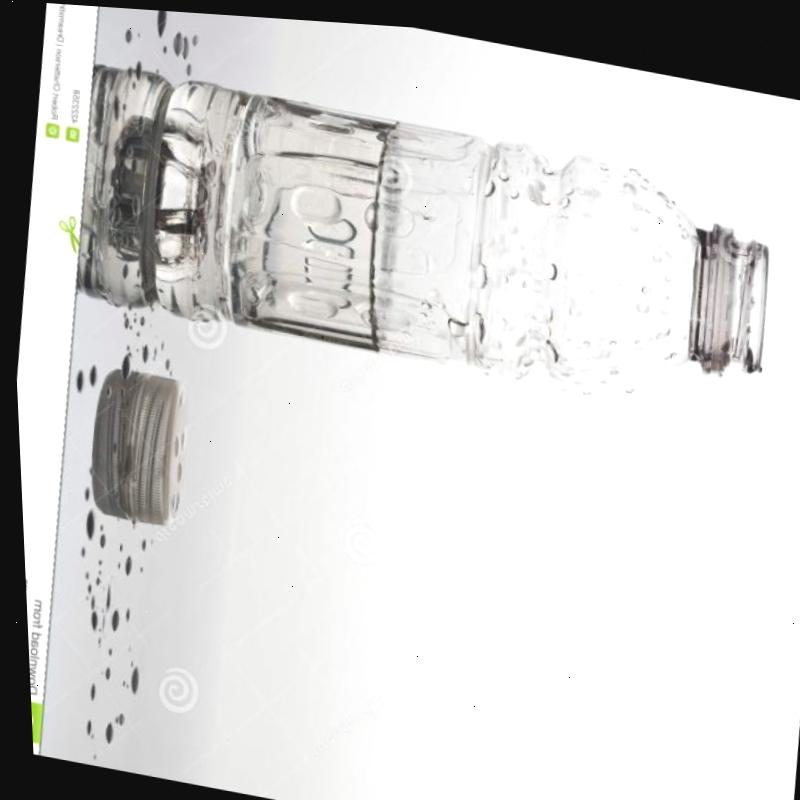botella: (132, 68, 783, 423)
